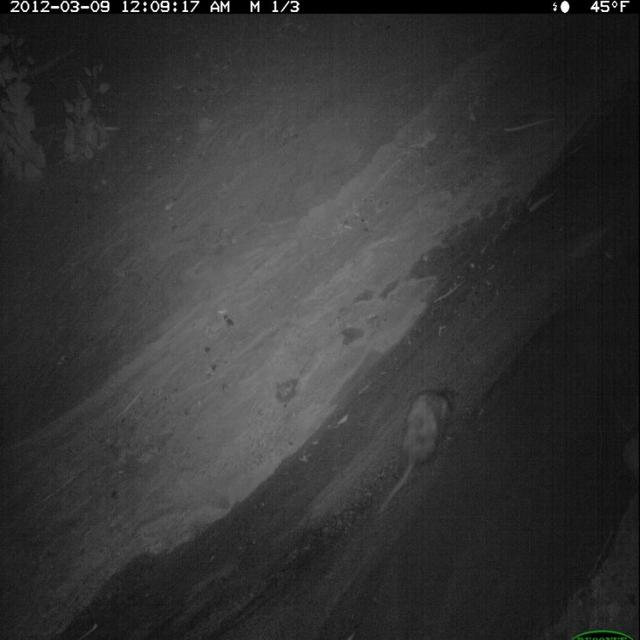opossum: (370, 383, 459, 525)
